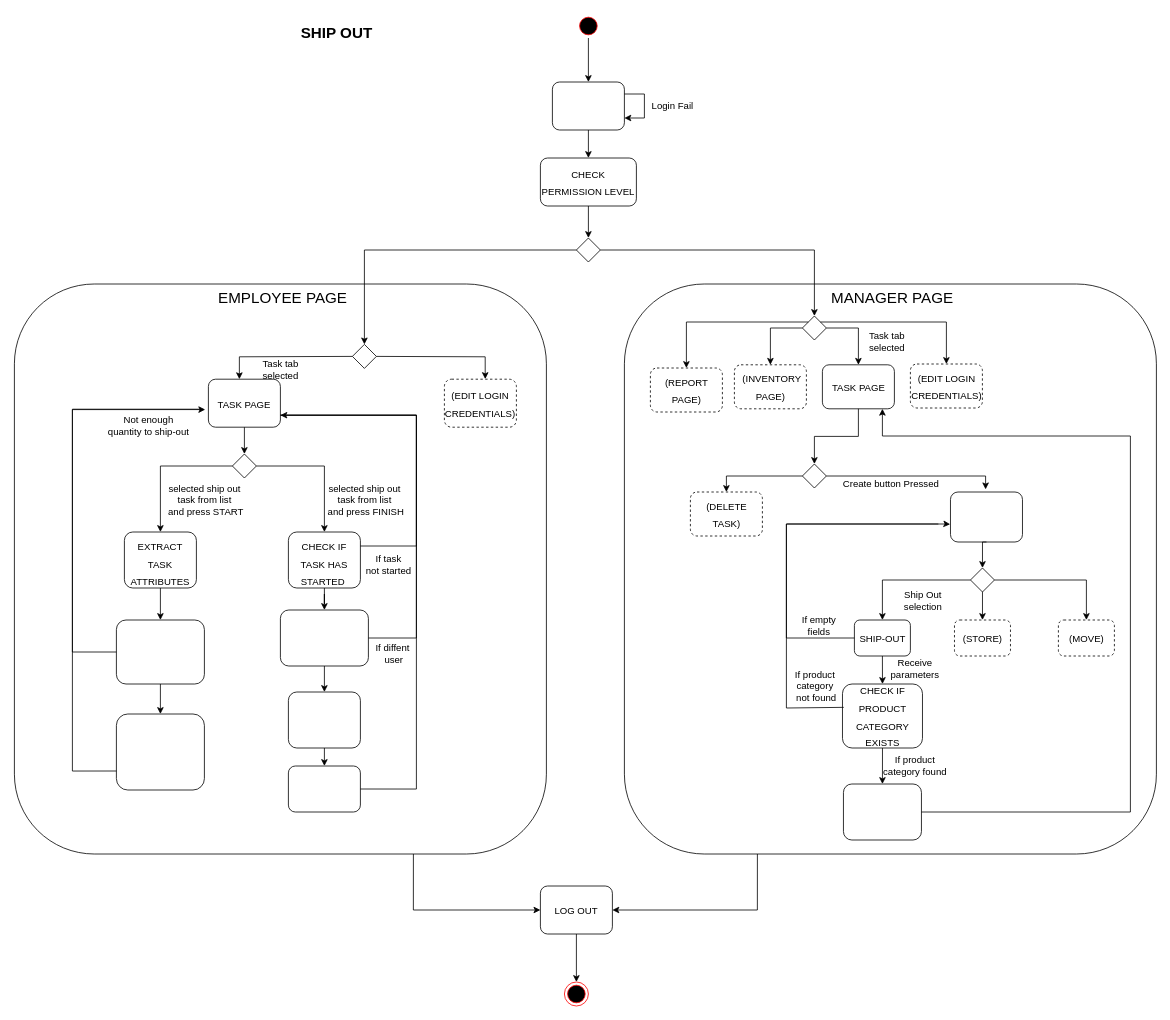
Image size: 1170x1020. Some labels were removed from this diagram. The centre of each missing label's shape, as x and y in pixels:
"ADD FINISH TIME TO TASK ATTRIBUTES" goes at pixel 324 719.
"ADD START TIME AND ASSIGNED USER TO TASK ATTRIBUTES" goes at pixel 160 751.
"CHECK IF IS THE SAME USER THAT STARTED" goes at pixel 324 637.
"CHECK IF QUANTITY IS AVAILABLE" goes at pixel 160 651.
"LOGIN" goes at pixel 588 105.
"POP UP NEW TASK" goes at pixel 986 516.
"PRODUCT SHIPPED IOUT" goes at pixel 324 788.
"TASK ADDED TO EMPLOYEE TASK LIST" goes at pixel 882 811.
